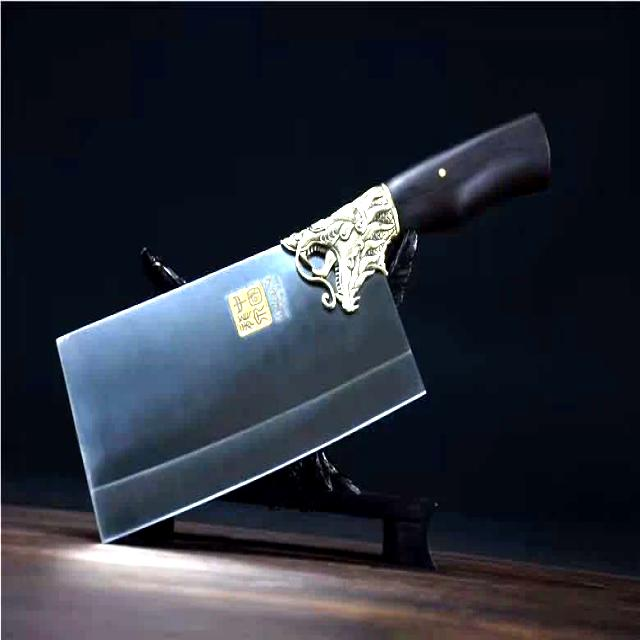cleaver: (59, 113, 549, 547)
